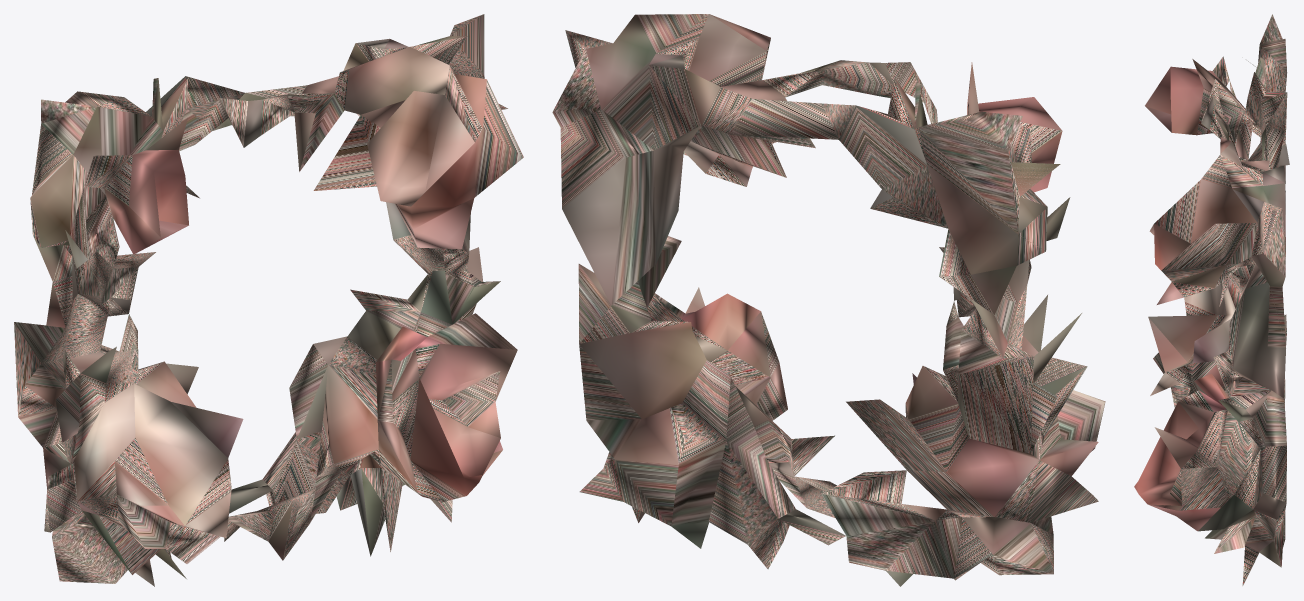
3 renders of one model, left to right at view 1: azimuth 30°, elevation 25°; view 2: azimuth 150°, elevation 25°; view 3: azimuth 270°, elevation 25°, orthographic. The views are drawn at different scales.
Parts seen in each view (by area): view 1: Rose-Frame-9-17; view 2: Rose-Frame-9-17; view 3: Rose-Frame-9-17.
Boxes of the visible parts, x1,y1,x2,y2 form: Rose-Frame-9-17: (14, 14, 523, 586); Rose-Frame-9-17: (552, 14, 1105, 586); Rose-Frame-9-17: (1134, 14, 1289, 585).
Bounding box in the file's own units: 0.2451 × 0.2442 × 0.0829.
1 material, 1 textured.
